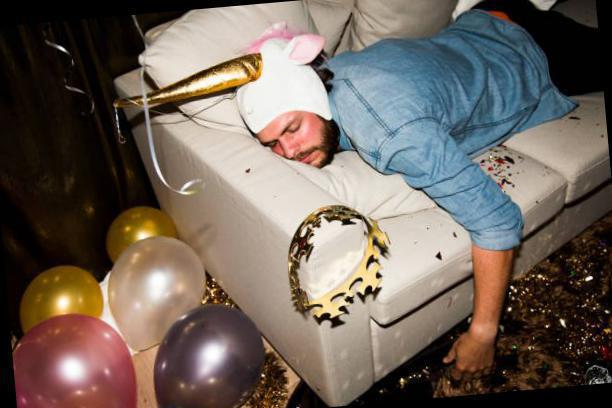Drunk: (254, 108, 330, 167)
